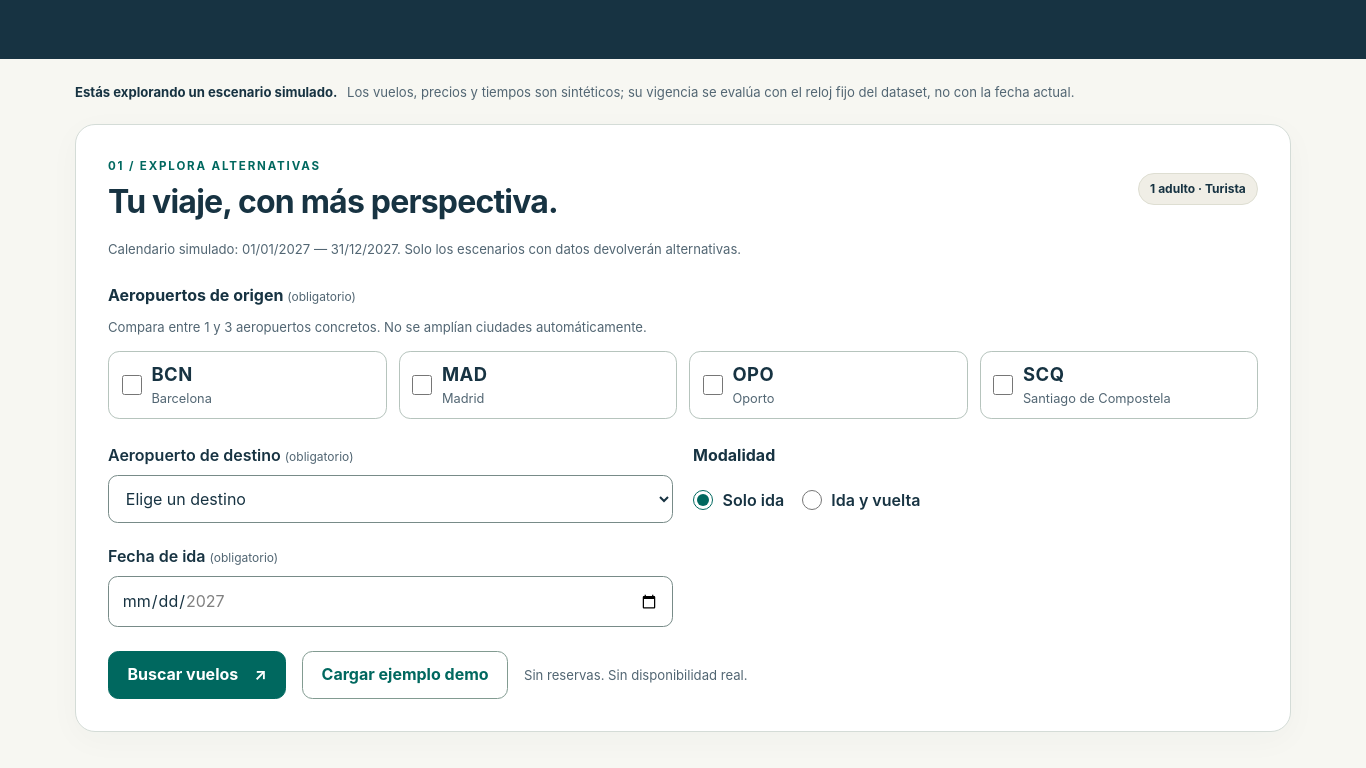
Test: experiencia Airwise demo › limita los orígenes a tres y permite liberar una selección
(page scrolled)
Expected: the checkbox labelled "OPO Oporto" is shown, top-left (703, 375), bottom-right (723, 395)
Click the checkbox labelled "BCN Barcelona". click: click(132, 385)
box: top-left (122, 375), bottom-right (142, 395)
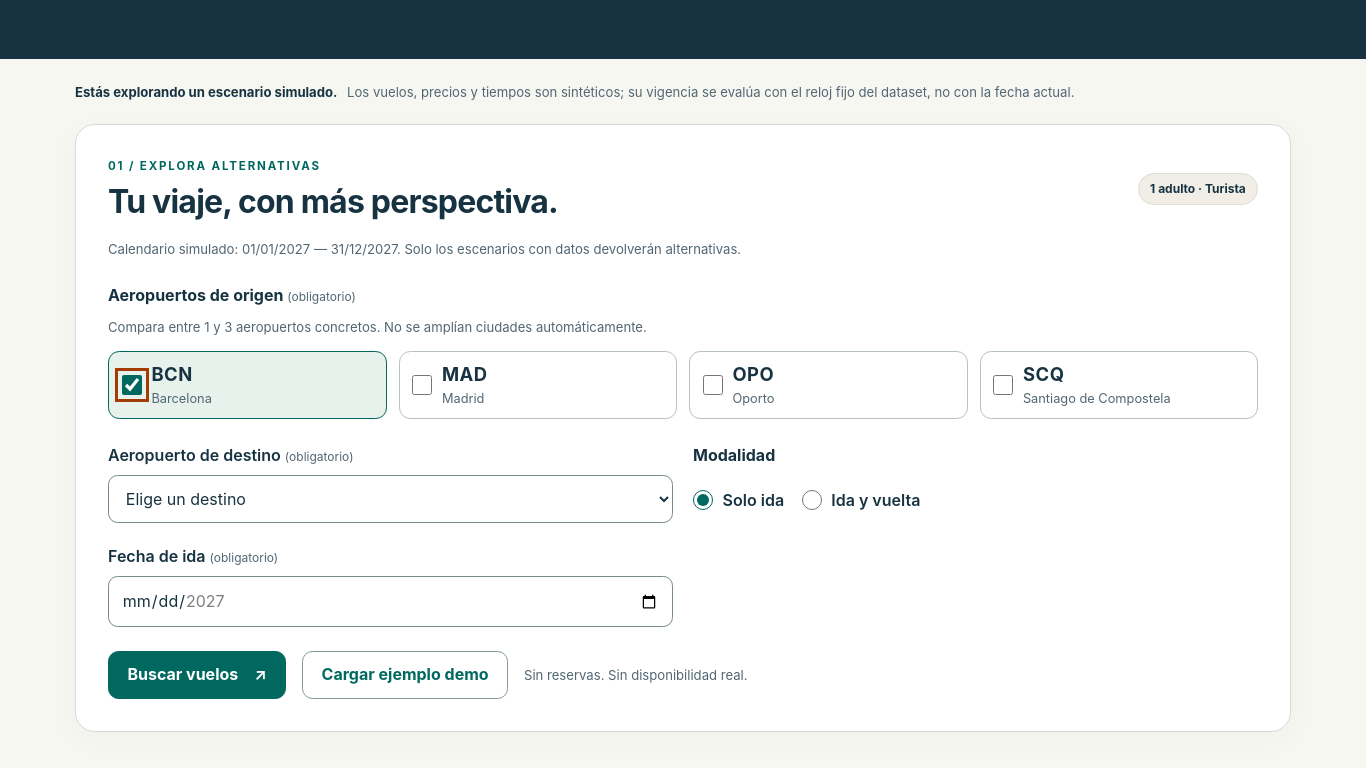
Click the checkbox labelled "OPO Oporto". click: click(713, 385)
box: top-left (703, 375), bottom-right (723, 395)
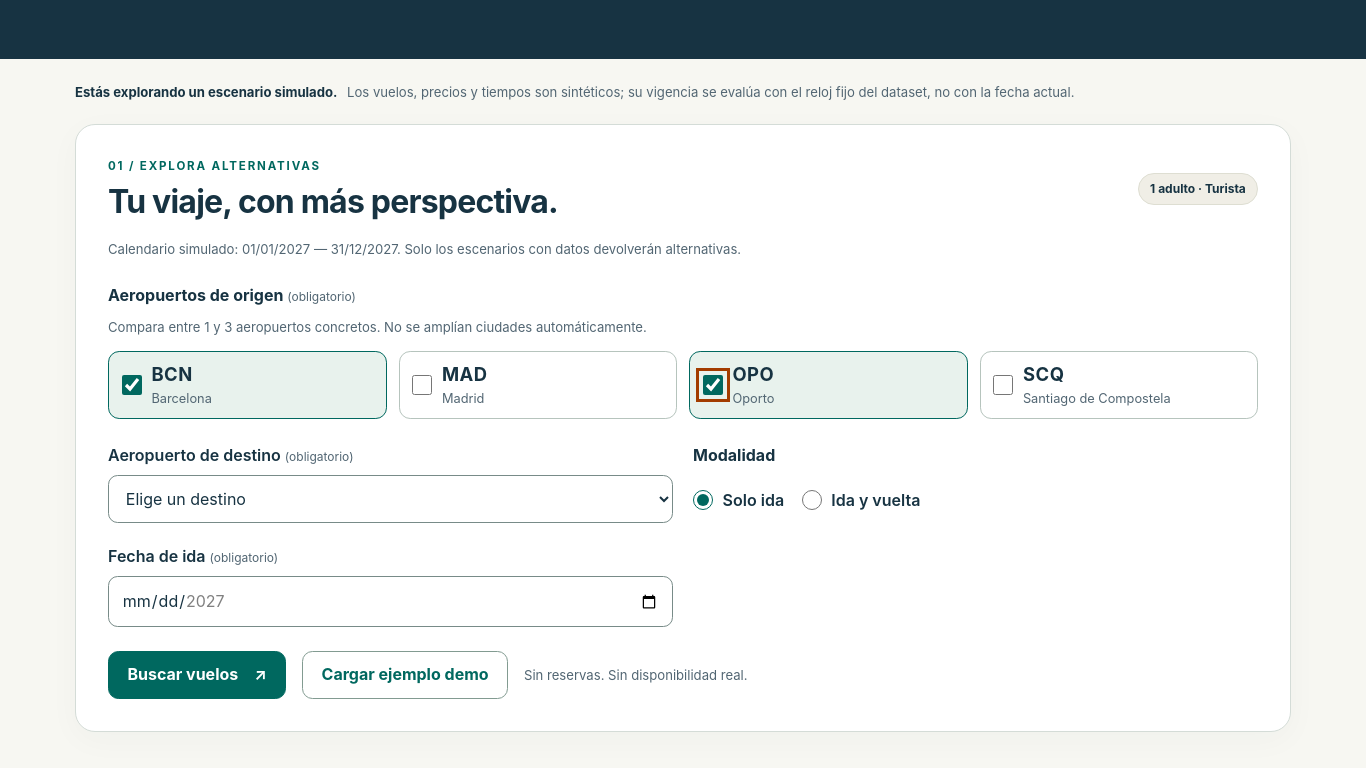
Click the checkbox labelled "SCQ Santiago de Compostela". click: click(1003, 385)
box: top-left (993, 375), bottom-right (1013, 395)
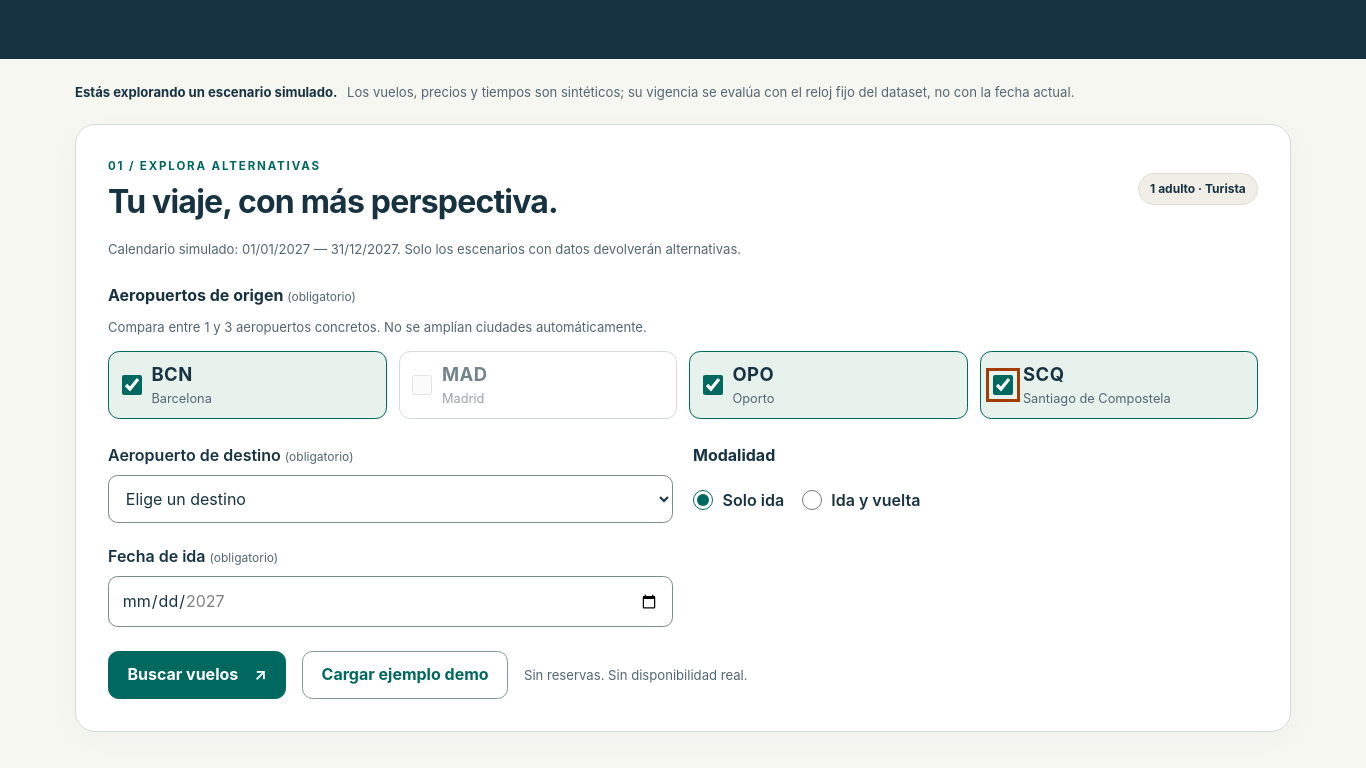
Now the checkbox labelled "MAD Madrid" is disabled, box top-left (412, 375), bottom-right (432, 395)
Click the checkbox labelled "SCQ Santiago de Compostela". click: click(1003, 385)
box: top-left (993, 375), bottom-right (1013, 395)
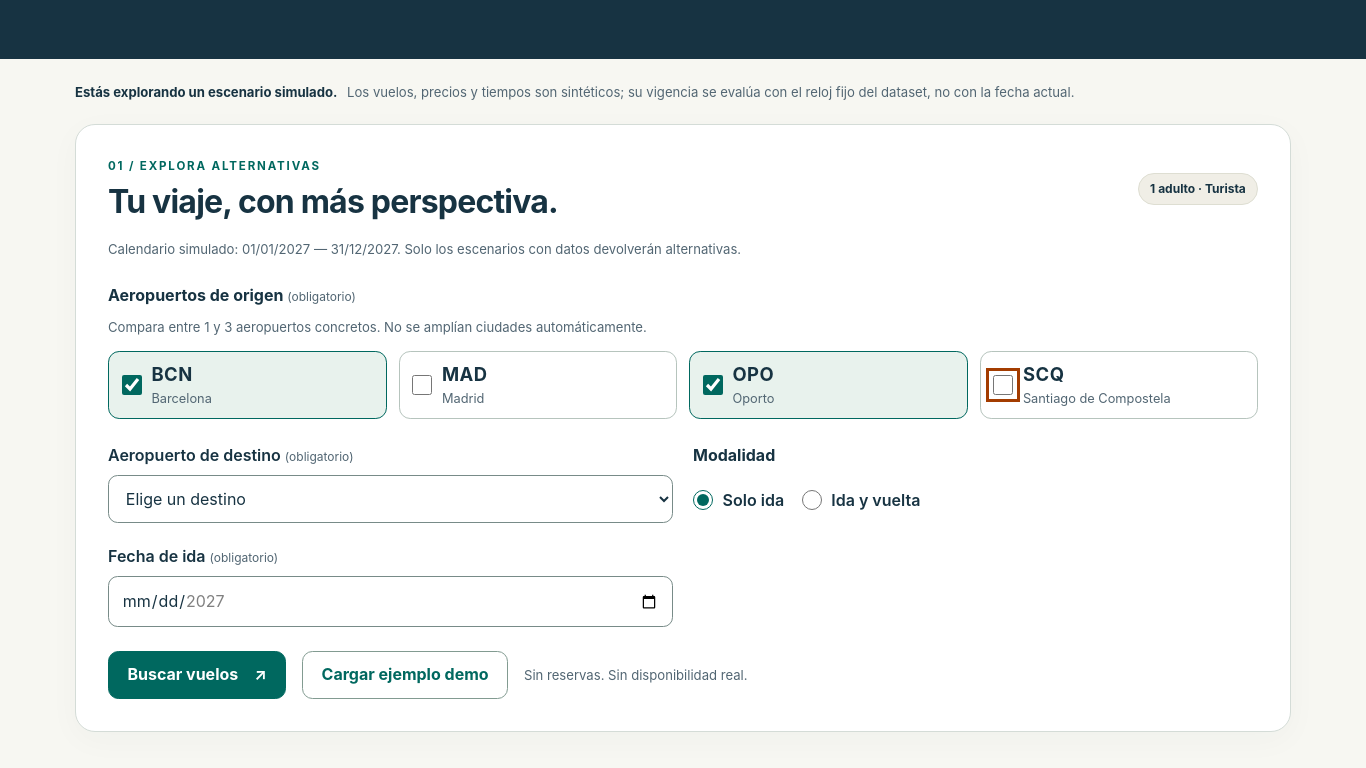
Now the checkbox labelled "MAD Madrid" is enabled, box top-left (412, 375), bottom-right (432, 395)
